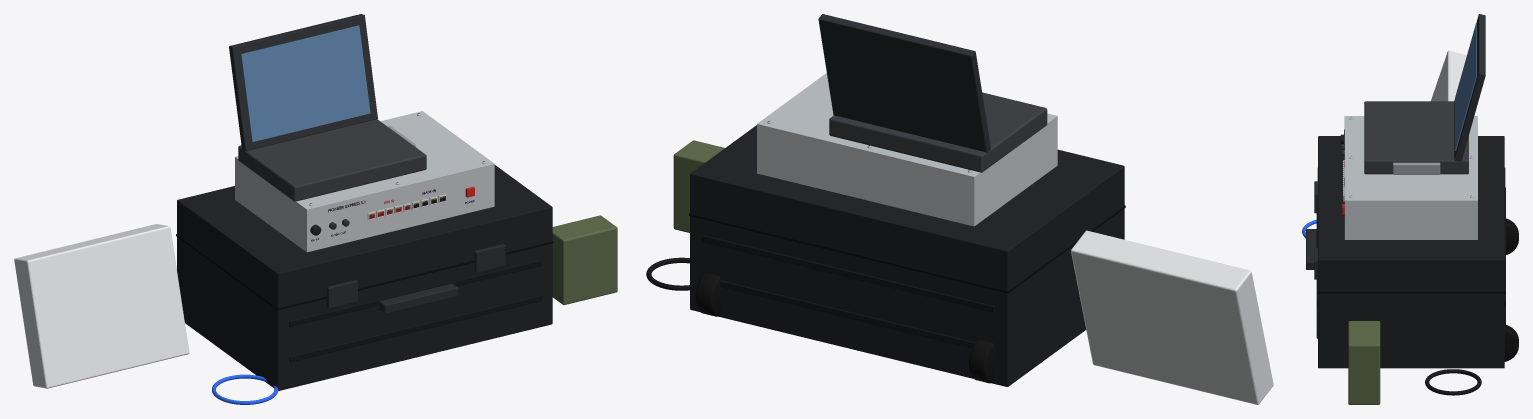
The model's file is grrip.glb.
3 renders of one model, left to right at view 1: azimuth 30°, elevation 25°; view 2: azimuth 150°, elevation 25°; view 3: azimuth 270°, elevation 25°, orthographic. The views are drawn at different scales.
Visible parts, largest first — view 1: case, bganext, screen-glass, core, laptop, b2590, coretop, screen, case-handle, case-seam, case-latch1, case-latch0 (+1 smaller); view 2: case, bganext, screen, core, laptop, coretop, b2590, case-seam, case-wheel0, case-wheel1; view 3: case, laptop, coretop, core, b2590, screen, screen-glass, bganext, case-seam, ssd, dccable, case-wheel1 (+2 smaller).
Boxes of the visible parts, x1,y1,x2,y2 form: case: [177, 165, 552, 390]; bganext: [14, 224, 189, 388]; screen-glass: [241, 25, 370, 142]; core: [235, 157, 494, 252]; laptop: [238, 119, 426, 201]; b2590: [552, 215, 617, 304]; coretop: [235, 111, 494, 210]; screen: [229, 14, 377, 151]; case-handle: [379, 283, 458, 313]; case-seam: [176, 234, 553, 310]; case-latch1: [474, 244, 505, 272]; case-latch0: [326, 280, 357, 308]; case: [690, 125, 1124, 386]; bganext: [1071, 230, 1273, 404]; screen: [818, 14, 990, 153]; core: [757, 118, 1057, 226]; laptop: [829, 92, 1047, 172]; coretop: [757, 73, 1057, 177]; b2590: [673, 140, 724, 232]; case-seam: [689, 205, 1125, 293]; case-wheel0: [969, 339, 993, 383]; case-wheel1: [695, 273, 720, 316]; case: [1316, 136, 1505, 368]; laptop: [1364, 101, 1468, 174]; coretop: [1344, 116, 1477, 201]; core: [1344, 201, 1477, 239]; b2590: [1348, 321, 1380, 404]; screen: [1454, 14, 1485, 161]; screen-glass: [1455, 24, 1476, 150]; bganext: [1431, 50, 1466, 101]; case-seam: [1317, 168, 1505, 293]; ssd: [1393, 162, 1440, 174]; dccable: [1425, 369, 1481, 395]; case-wheel1: [1504, 324, 1518, 361].
Bounding box in the file's own units: 21.84 × 10.51 × 8.27.
